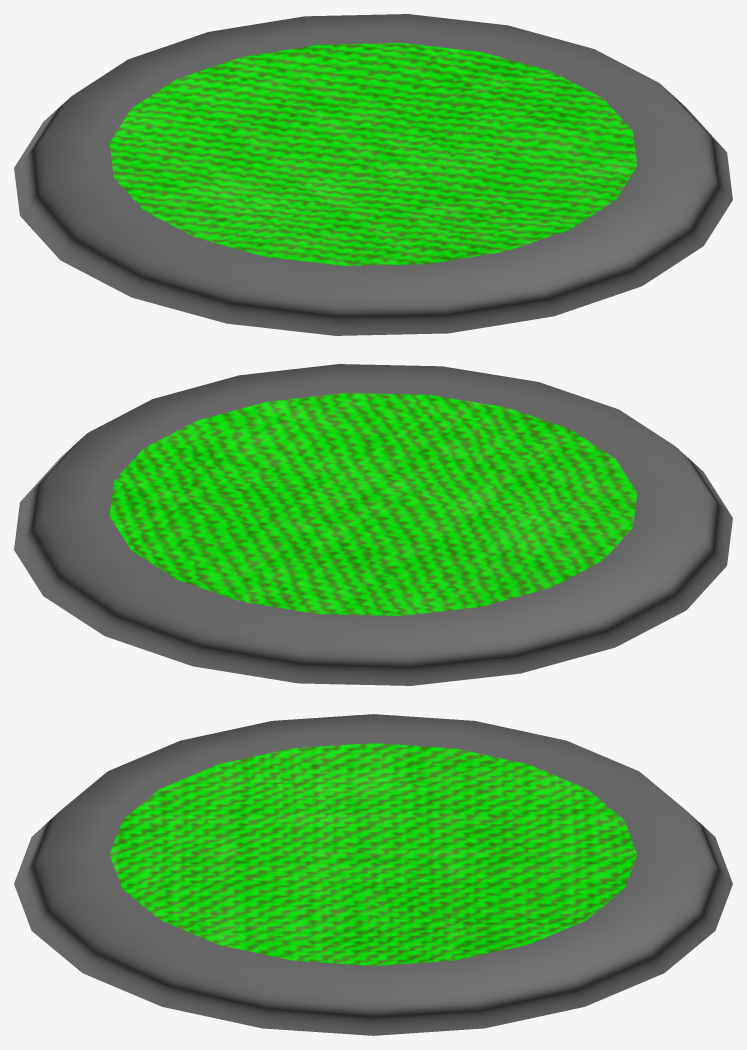
Rendered from goal.fbx.
The picture shows the model from 3 angles, top to bottom: view 1: azimuth 30°, elevation 25°; view 2: azimuth 150°, elevation 25°; view 3: azimuth 270°, elevation 25°; orthographic projection.
Parts seen in each view (by area): view 1: pCylinder11; view 2: pCylinder11; view 3: pCylinder11.
Part boxes in pixels (<box>): pCylinder11: <box>14,14,732,335</box>; pCylinder11: <box>14,364,732,685</box>; pCylinder11: <box>14,714,732,1035</box>.
Bounding box in the file's own units: 60.54 × 3.21 × 60.54.
Materials: 1 (1 with a texture image).
